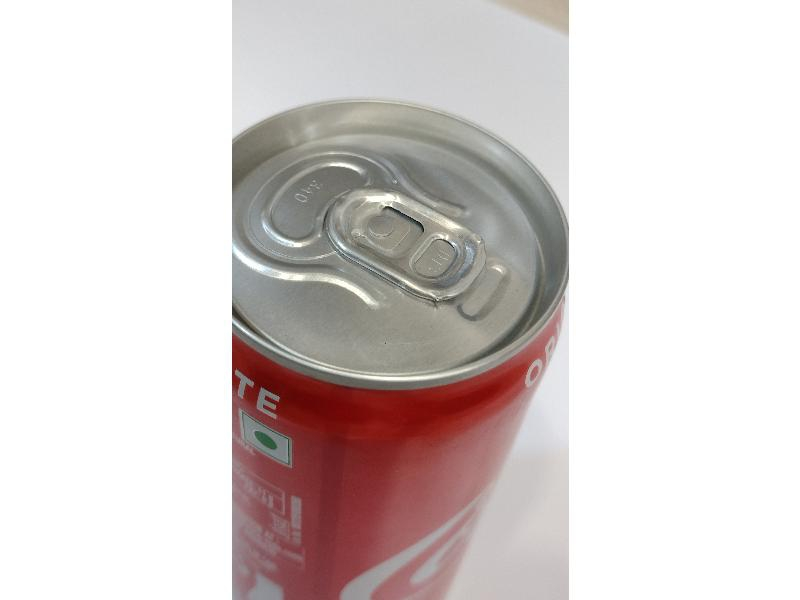can: (236, 88, 572, 595)
